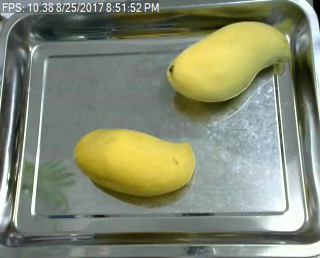Mango: (167, 17, 294, 108), (71, 127, 200, 199)
